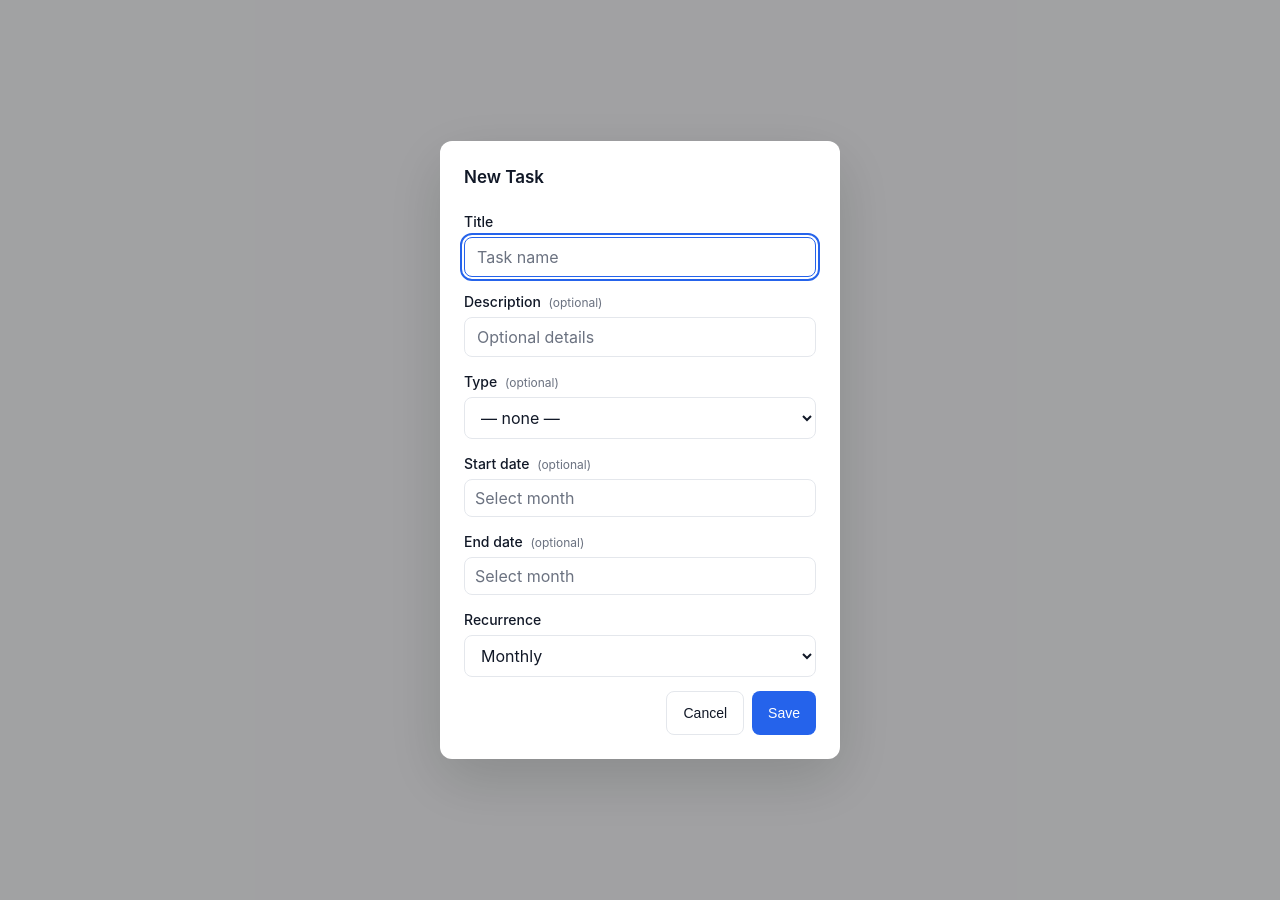
Test case: TaskForm › amount validation › shows error on non-numeric amount
Step 1. Select "Payment" in the dropdown labelled "Type (optional)" → {"x": 640, "y": 418}, box x1=464 y1=397 x2=816 y2=439
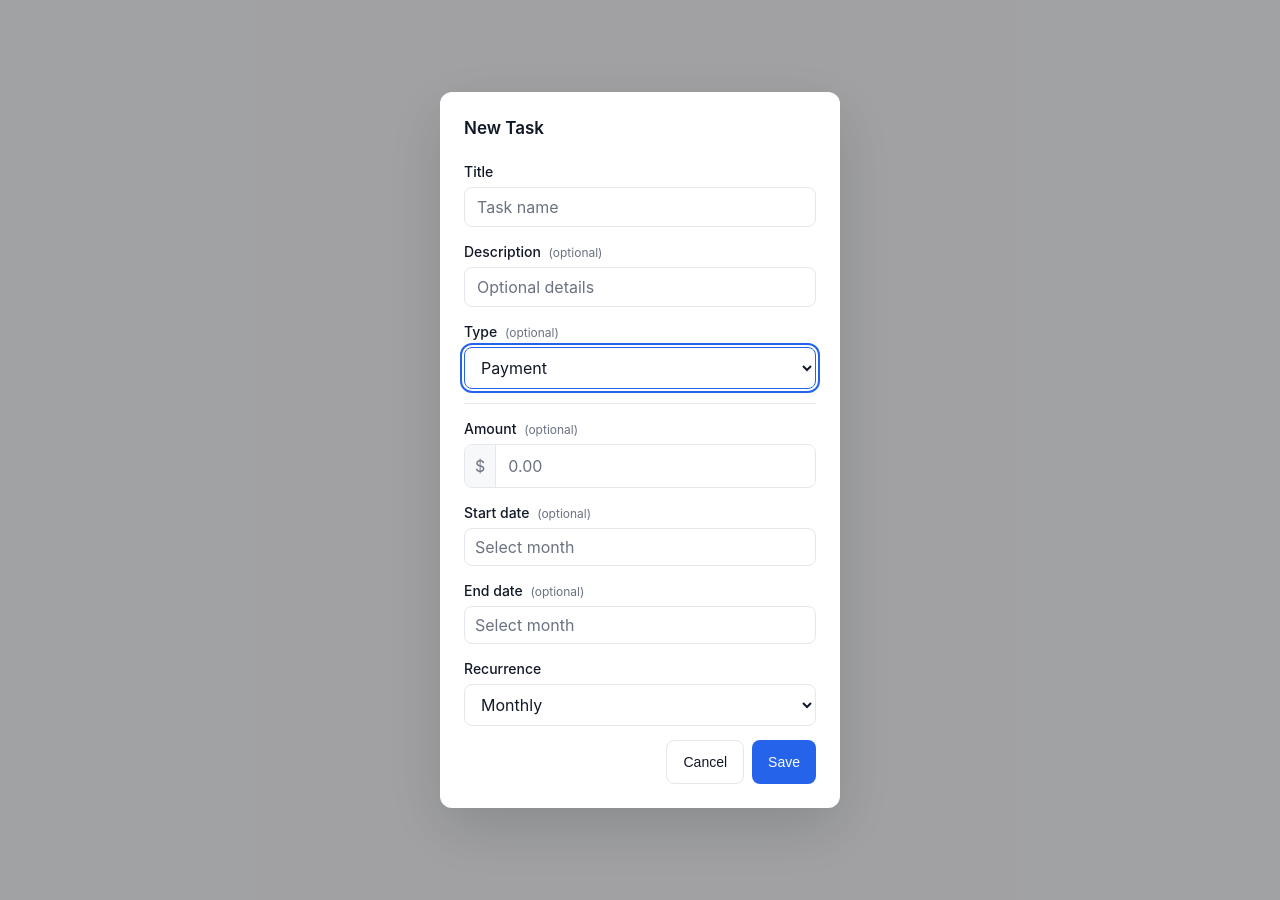
Step 2. Type "Rent" into the field labelled "Title" → {"x": 640, "y": 207}, box x1=464 y1=187 x2=816 y2=227
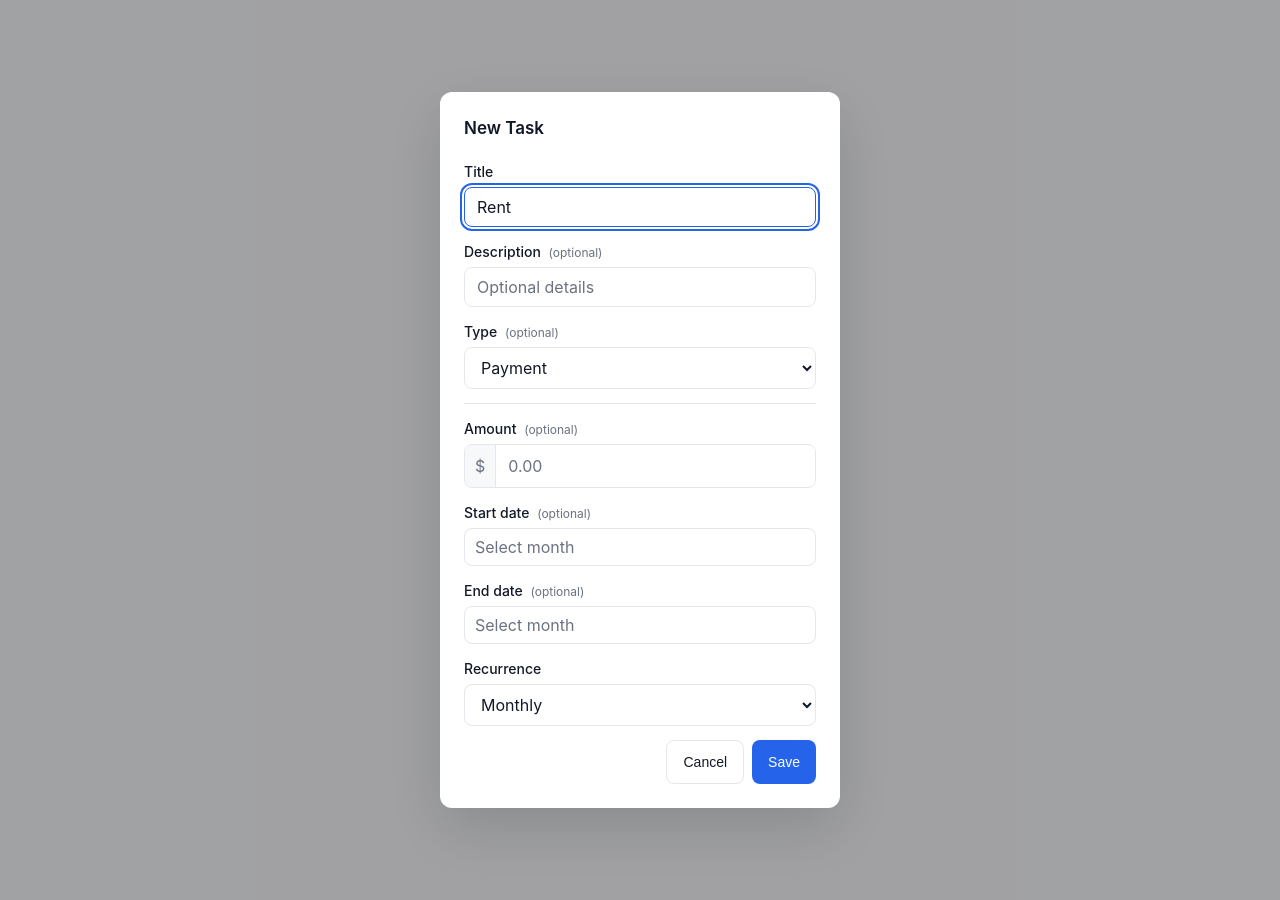
Step 3. Type "abc" into the field labelled "Amount (optional)" → {"x": 656, "y": 466}, box x1=496 y1=447 x2=815 y2=485
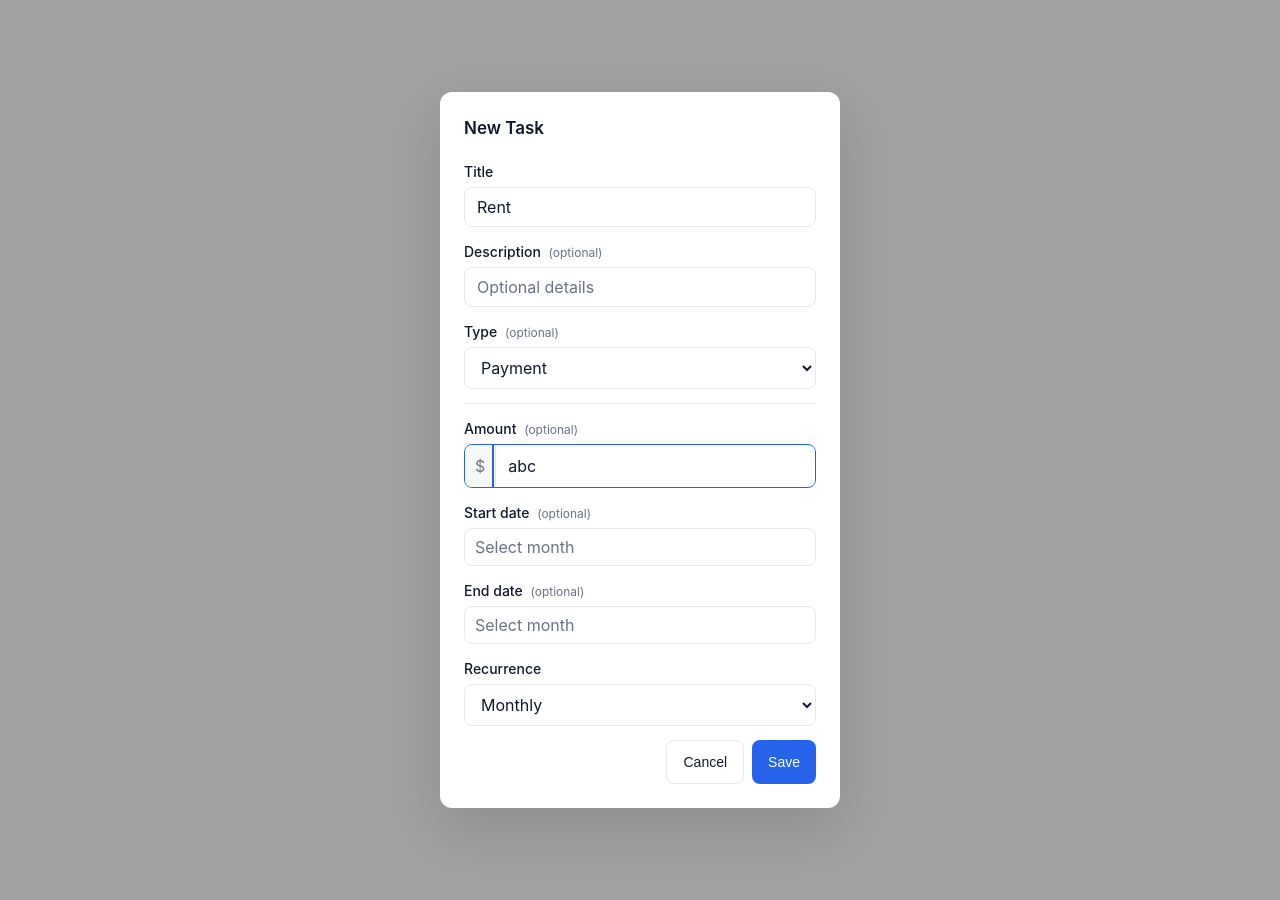
Step 4. Click the button "Save" → {"x": 784, "y": 762}, box x1=752 y1=740 x2=816 y2=784
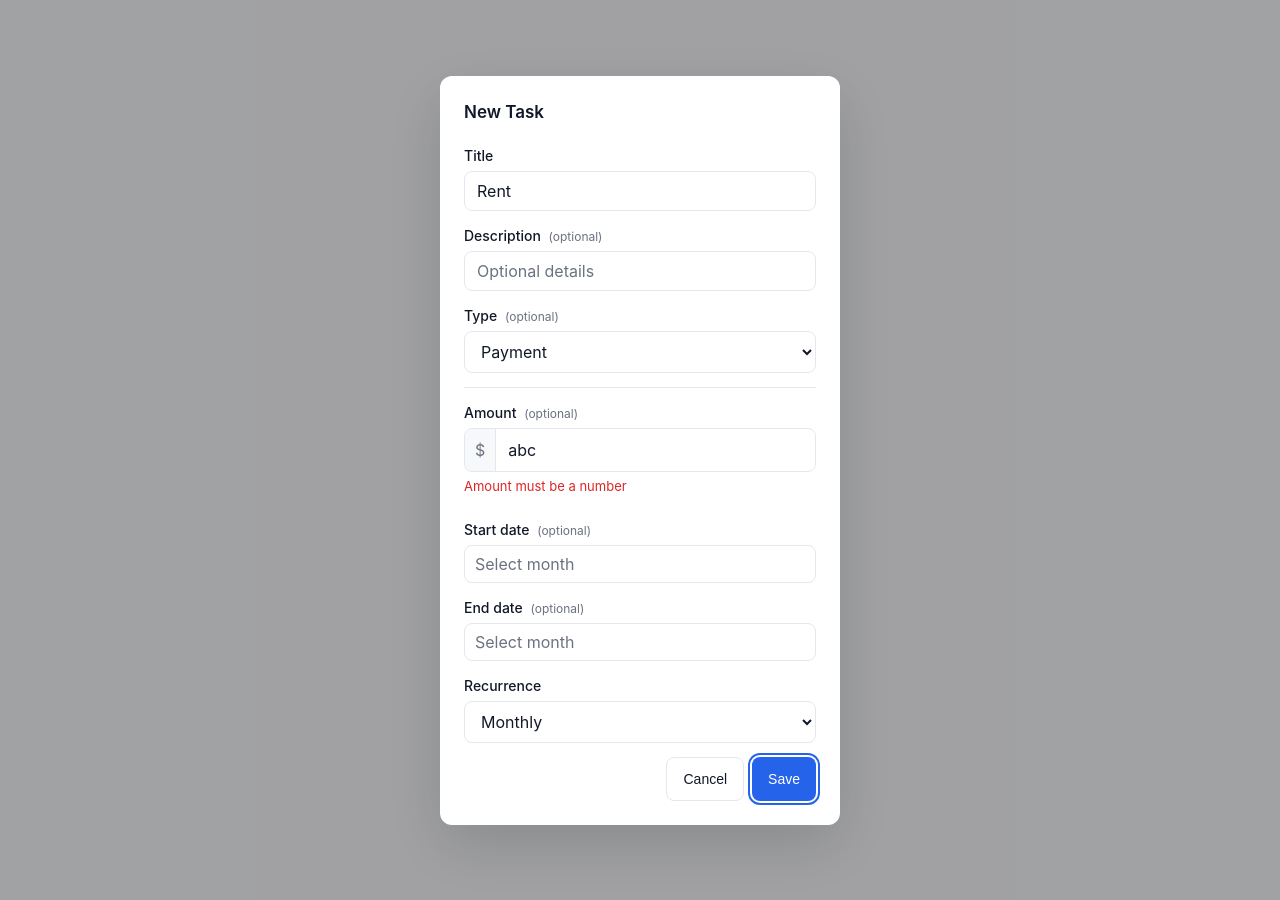
Now the message reads "Amount must be a number", box x1=464 y1=478 x2=627 y2=494
